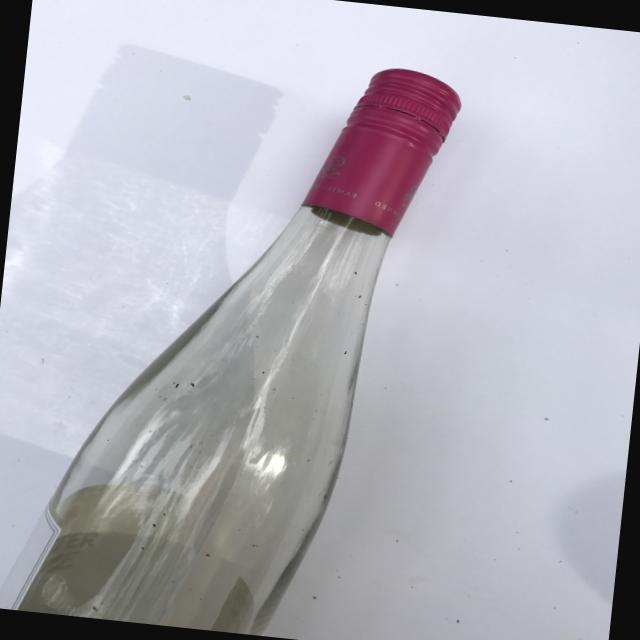Glass: (0, 13, 496, 640)
